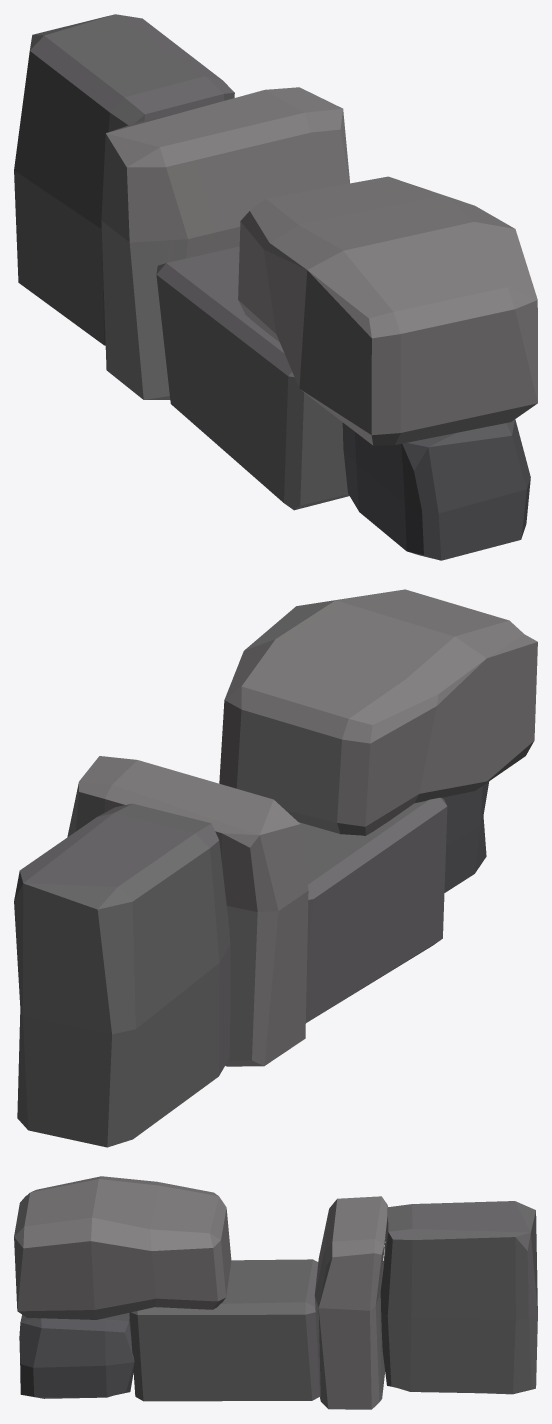
File: Murêt_roche_V3.fbx
The picture shows the model from 3 angles, top to bottom: view 1: azimuth 30°, elevation 25°; view 2: azimuth 150°, elevation 25°; view 3: azimuth 270°, elevation 25°; orthographic projection. The views are drawn at different scales.
Parts seen in each view (by area): view 1: Cube.005; view 2: Cube.005; view 3: Cube.005.
Part boxes in pixels (x1,y1,x2,y2): Cube.005: (14,14,537,560); Cube.005: (14,589,537,1147); Cube.005: (14,1176,537,1409).
Bounding box in the file's own units: 45.44 × 55.02 × 141.
